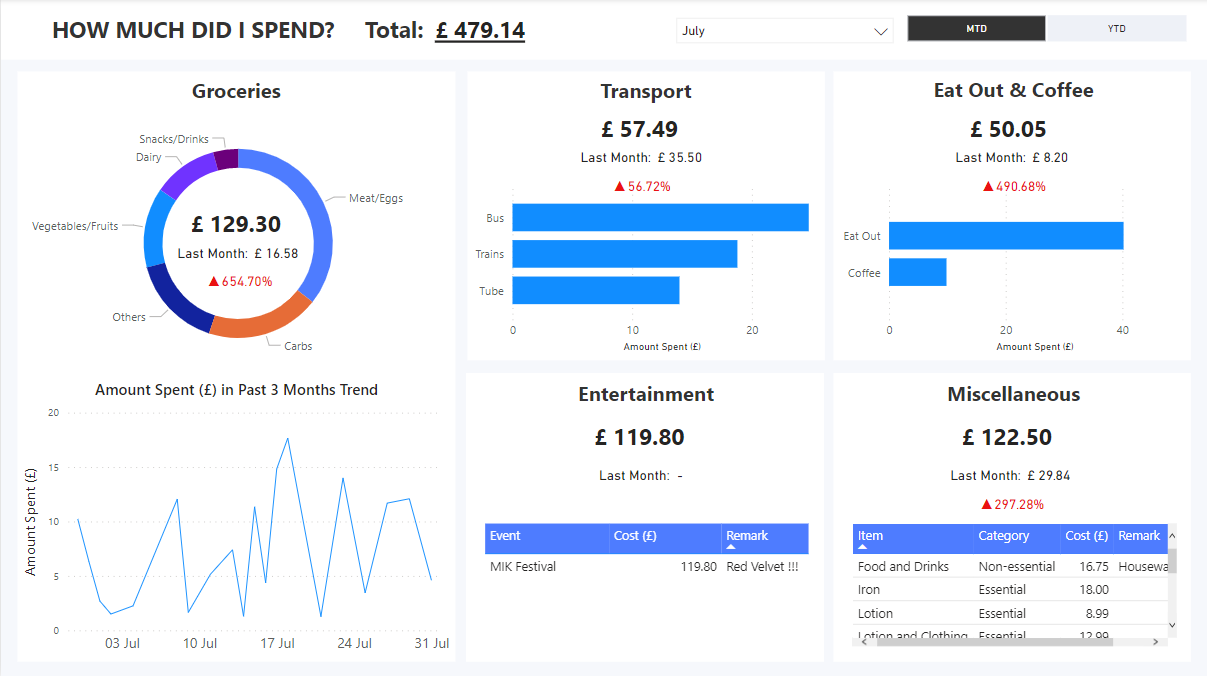

The dashboard page shown, as its layout file describes it:
{"tool":"powerbi","page":{"name":"v1","canvas":[1280,720],"ordinal":0},"visuals":[{"type":"shape","box":[0,0,1279.5,65.2],"z":0},{"type":"slicer","fields":{"Values":["Date Selection.Type"]},"box":[934.6,10.4,345,41.7],"z":1000},{"type":"slicer","fields":{"Values":["Date Dim.Date.Variation.Date Hierarchy.Month"]},"box":[705.8,8.9,250,39.9],"z":2000},{"type":"shape","box":[17.2,78.6,463.9,625],"z":3000},{"type":"shape","title":"Groceries","box":[104.8,82.5,288.6,30.9],"z":4000},{"type":"lineChart","title":"Amount Spent (£) in Past 3 Months Trend","fields":{"Y":["Groceries Daily.Total Amount (Groceries) P3M Trend"],"Category":["Groceries Daily.Reporting Date"]},"box":[18.9,403.3,461.1,300],"z":6000},{"type":"shape","box":[493.5,78.6,378.6,305.7],"z":7000},{"type":"shape","box":[493.3,397.6,379,306],"z":8000},{"type":"shape","box":[882.9,78.6,378.6,305.7],"z":9000},{"type":"shape","box":[882.9,397.9,378.6,305.7],"z":10000},{"type":"shape","title":"Transport","box":[538.8,82.6,289.3,31.8],"z":11000},{"type":"shape","title":"Eat Out & Coffee","box":[928.2,81.1,289.3,31.8],"z":12000},{"type":"shape","title":"Entertainment","box":[538.8,403.7,289.3,31.8],"z":13000},{"type":"shape","title":"Miscellaneous","box":[928.2,403.7,289.3,31.8],"z":14000},{"type":"card","fields":{"Values":["Transport Daily.Total Amount (Transport) Card"]},"box":[562.5,107.5,226.2,62.5],"z":15000},{"type":"card","fields":{"Values":["Transport Daily.Total Amount (Transport) Previous Card"]},"box":[587.5,145.7,180,46.7],"z":16000},{"type":"card","fields":{"Values":["Transport Daily.Total Amount (Transport) Arrow"]},"box":[615.9,177.4,126.7,45],"z":17000},{"type":"barChart","fields":{"Category":["Transport Daily.Transportation Type"],"Y":["Transport Daily.Total Amount (Transport)"]},"box":[492.9,188.6,378.6,190],"z":18000},{"type":"shape","title":"HOW MUCH DID I SPEND?","box":[46.2,16.2,315,30],"z":19000},{"type":"card","fields":{"Values":["Eat Out & Coffee Daily.Total Amount (EOC) Card"]},"box":[954.3,107.8,226.2,62.5],"z":20000},{"type":"card","fields":{"Values":["Eat Out & Coffee Daily.Total Amount (EOC) Previous Card"]},"box":[981.2,145.7,180,46.7],"z":21000},{"type":"card","fields":{"Values":["Eat Out & Coffee Daily.Total Amount (EOC) Arrow"]},"box":[1009.6,177.4,126.7,45],"z":22000},{"type":"card","fields":{"Values":["Miscellaneous Daily.Total Amount (Miscellaneous) Card"]},"box":[952.5,434.1,226.2,62.5],"z":23000},{"type":"card","fields":{"Values":["Miscellaneous Daily.Total Amount (Miscellaneous) Previous Card"]},"box":[978.8,482.9,180,46.2],"z":24000},{"type":"card","fields":{"Values":["Miscellaneous Daily.Total Amount (Miscellaneous) Arrow"]},"box":[1007.5,514.3,126.2,45],"z":25000},{"type":"tableEx","fields":{"Values":["Miscellaneous Daily.Item","Miscellaneous Daily.Essential/Non-essential","Miscellaneous Daily.Cost (£)","Miscellaneous Daily.Remark"]},"box":[897.1,552.1,354.3,140],"z":26000},{"type":"card","fields":{"Values":["Entertainment Daily.Total Amount (Entertainment) Card"]},"box":[561.9,434.1,226.2,62.5],"z":27000},{"type":"card","fields":{"Values":["Entertainment Daily.Total Amount (Entertainment) Previous Card"]},"box":[588.6,482.7,180,46.7],"z":28000},{"type":"card","fields":{"Values":["Entertainment Daily.Total Amount (Entertainment) Arrow"]},"box":[616.9,514.3,126.7,45],"z":29000},{"type":"tableEx","fields":{"Values":["Entertainment Daily.Event","Entertainment Daily.Cost (£)","Entertainment Daily.Remark"]},"box":[507.1,552.1,354.3,140],"z":30000},{"type":"barChart","fields":{"Category":["Eat Out & Coffee Daily.Category"],"Y":["Eat Out & Coffee Daily.Total Amount (EOC)"]},"box":[884.3,188.6,378.6,190],"z":31000},{"type":"card","fields":{"Values":["Date Selection.Total Amount Card"]},"box":[436.2,8.8,143.8,50],"z":32000},{"type":"card","fields":{"Values":["Groceries Daily.Total Amount (Groceries) Card"]},"box":[135,208,226.2,62.5],"z":33000},{"type":"card","fields":{"Values":["Groceries Daily.Total Amount (Groceries) Previous Card"]},"box":[161.2,247.2,180,46.7],"z":34000},{"type":"card","fields":{"Values":["Groceries Daily.Total Amount (Groceries) Arrow"]},"box":[189.6,278.9,126.7,45],"z":35000},{"type":"shape","title":"Total:","box":[367.5,16.2,98.8,30],"z":36000},{"type":"donutChart","fields":{"Category":["Groceries Daily.Category"],"Y":["Groceries Daily.Total Amount (Groceries)"]},"box":[16.8,122.4,462.9,274.9],"z":36500}]}

Visuals, with their boxes in screenshot pixels (x1, y1, x2, y2), scaled from the page's 1280x720 canvas onto the 1207x676 screenshot:
shape: region(0, 0, 1206, 61)
slicer - Date Selection.Type: region(881, 10, 1206, 49)
slicer - Date Dim.Date.Variation.Date Hierarchy.Month: region(666, 8, 901, 46)
shape: region(16, 74, 454, 661)
"Groceries" shape: region(99, 77, 371, 106)
"Amount Spent (£) in Past 3 Months Trend" lineChart: region(18, 379, 453, 660)
shape: region(465, 74, 822, 361)
shape: region(465, 373, 823, 661)
shape: region(833, 74, 1190, 361)
shape: region(833, 374, 1190, 661)
"Transport" shape: region(508, 78, 781, 107)
"Eat Out & Coffee" shape: region(875, 76, 1148, 106)
"Entertainment" shape: region(508, 379, 781, 409)
"Miscellaneous" shape: region(875, 379, 1148, 409)
card - Transport Daily.Total Amount (Transport) Card: region(530, 101, 744, 160)
card - Transport Daily.Total Amount (Transport) Previous Card: region(554, 137, 724, 181)
card - Transport Daily.Total Amount (Transport) Arrow: region(581, 167, 700, 209)
barChart - Transport Daily.Transportation Type x Transport Daily.Total Amount (Transport): region(465, 177, 822, 355)
"HOW MUCH DID I SPEND?" shape: region(44, 15, 341, 43)
card - Eat Out & Coffee Daily.Total Amount (EOC) Card: region(900, 101, 1113, 160)
card - Eat Out & Coffee Daily.Total Amount (EOC) Previous Card: region(925, 137, 1095, 181)
card - Eat Out & Coffee Daily.Total Amount (EOC) Arrow: region(952, 167, 1071, 209)
card - Miscellaneous Daily.Total Amount (Miscellaneous) Card: region(898, 408, 1111, 466)
card - Miscellaneous Daily.Total Amount (Miscellaneous) Previous Card: region(923, 453, 1093, 497)
card - Miscellaneous Daily.Total Amount (Miscellaneous) Arrow: region(950, 483, 1069, 525)
tableEx - Miscellaneous Daily.Item x Miscellaneous Daily.Essential/Non-essential: region(846, 518, 1180, 650)
card - Entertainment Daily.Total Amount (Entertainment) Card: region(530, 408, 743, 466)
card - Entertainment Daily.Total Amount (Entertainment) Previous Card: region(555, 453, 725, 497)
card - Entertainment Daily.Total Amount (Entertainment) Arrow: region(582, 483, 701, 525)
tableEx - Entertainment Daily.Event x Entertainment Daily.Cost (£): region(478, 518, 812, 650)
barChart - Eat Out & Coffee Daily.Category x Eat Out & Coffee Daily.Total Amount (EOC): region(834, 177, 1191, 355)
card - Date Selection.Total Amount Card: region(411, 8, 547, 55)
card - Groceries Daily.Total Amount (Groceries) Card: region(127, 195, 341, 254)
card - Groceries Daily.Total Amount (Groceries) Previous Card: region(152, 232, 322, 276)
card - Groceries Daily.Total Amount (Groceries) Arrow: region(179, 262, 298, 304)
"Total:" shape: region(347, 15, 440, 43)
donutChart - Groceries Daily.Category x Groceries Daily.Total Amount (Groceries): region(16, 115, 452, 373)
